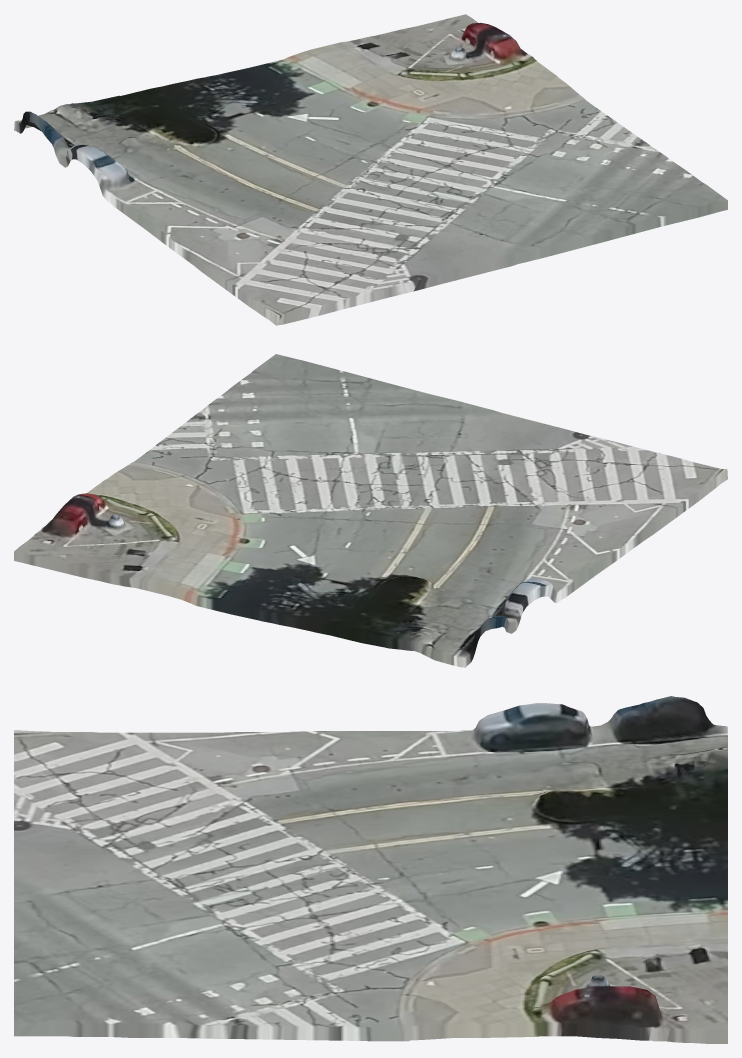
Rendered from z20-167784-405216-h0-yup-uvflip-v3-world.glb.
3 views of the same model, one above another, from view 1: azimuth 30°, elevation 25°; view 2: azimuth 150°, elevation 25°; view 3: azimuth 270°, elevation 25° (orthographic). The views are drawn at different scales.
Bounding box in the file's own units: 30.2 × 2.32 × 30.32.
Materials: 1 (1 with a texture image).
